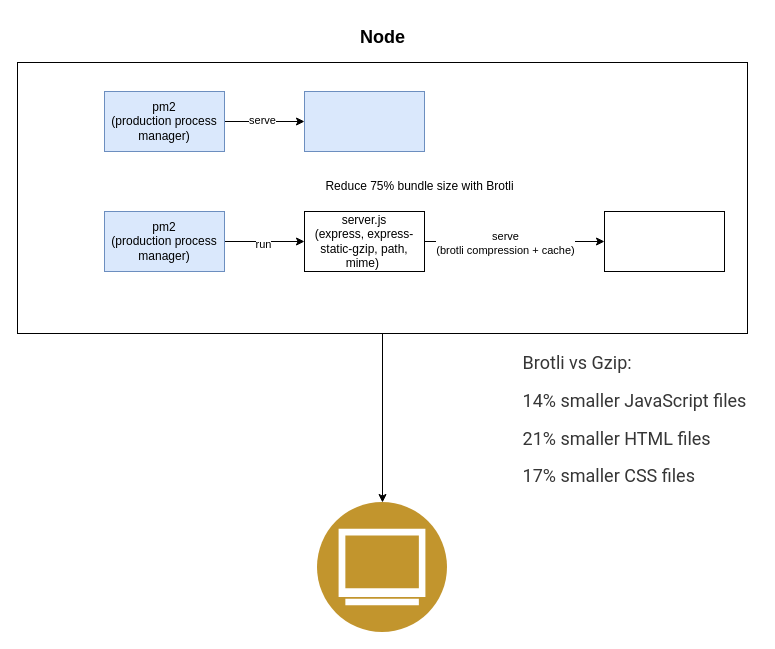
Some shapes in this 775 by 649 pixel diagram are drawn without their labels. Here are the shapes that lost their labels. From the top down, the centre of each, then its label:
At point (364, 121): "Angular static file (bundle file (main.xxx.js))".
At point (664, 241): "Angular static file (bundle file (main.xxx.js, main.xxx.js.br))".
